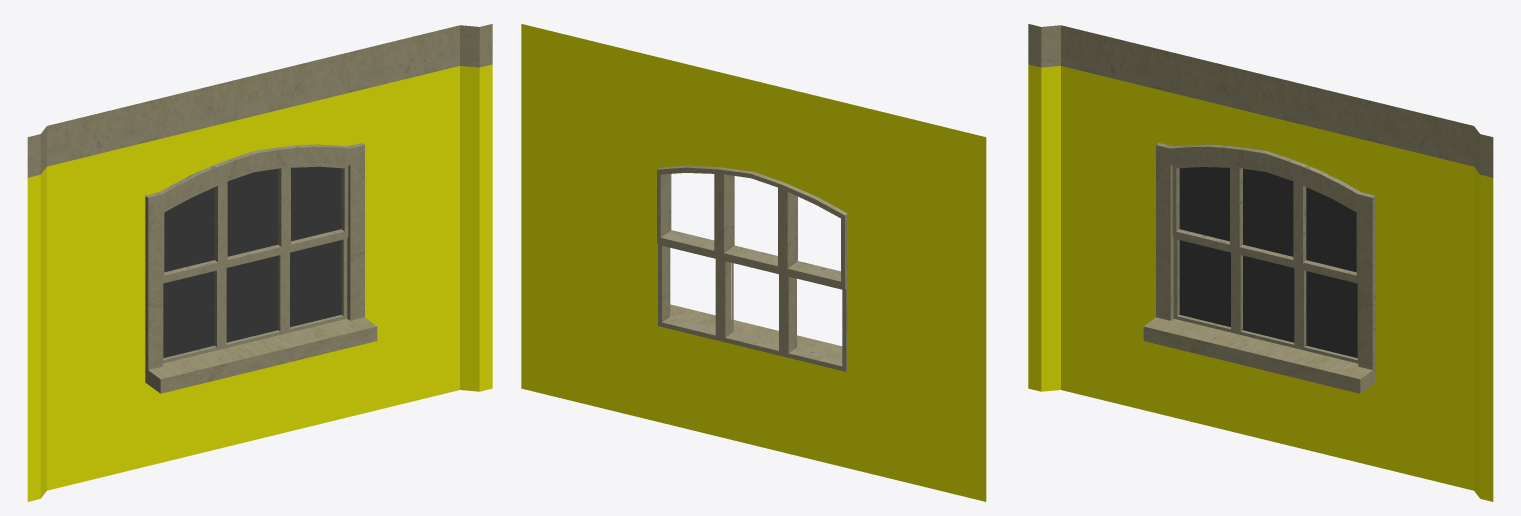
Rendered from brick-inset-window-curved.glb.
3 renders of one model, left to right at view 1: azimuth 30°, elevation 25°; view 2: azimuth 150°, elevation 25°; view 3: azimuth 330°, elevation 25°, orthographic.
Parts seen in each view (by area): view 1: Brick_Inset_Window_Curved; view 2: Brick_Inset_Window_Curved; view 3: Brick_Inset_Window_Curved.
Part boxes in pixels (x1=…): Brick_Inset_Window_Curved: x1=27, y1=24, x2=492, y2=501; Brick_Inset_Window_Curved: x1=521, y1=24, x2=986, y2=501; Brick_Inset_Window_Curved: x1=1028, y1=24, x2=1493, y2=501.
Bounding box in the file's own units: 4 × 3 × 0.3737.
4 materials, 1 textured.
